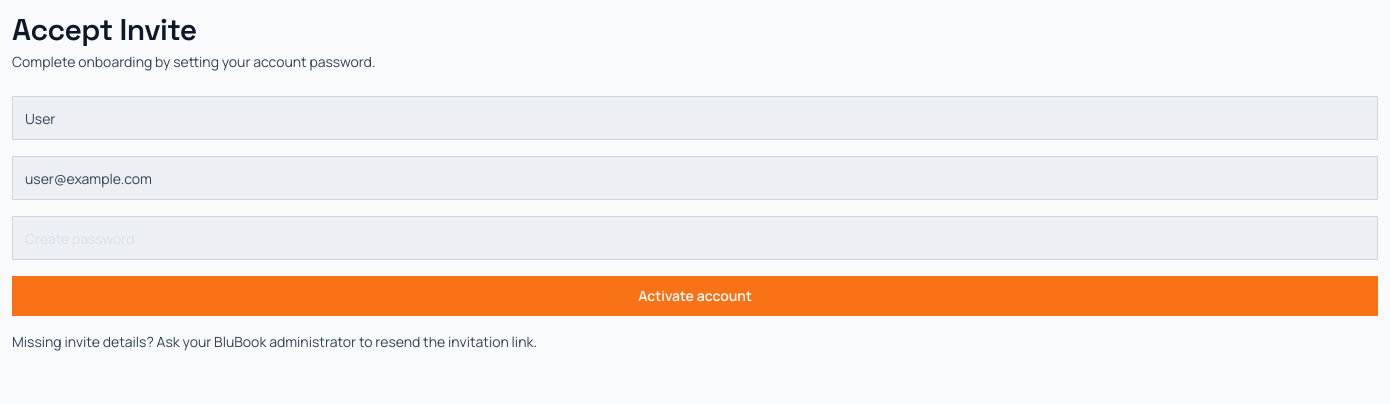
InvitePage › shows login failure message after successful activation
Type "Password123" into the password field with placeholder "Create password".
click(695, 238); type("Password123")  # box [12,216,1378,260]
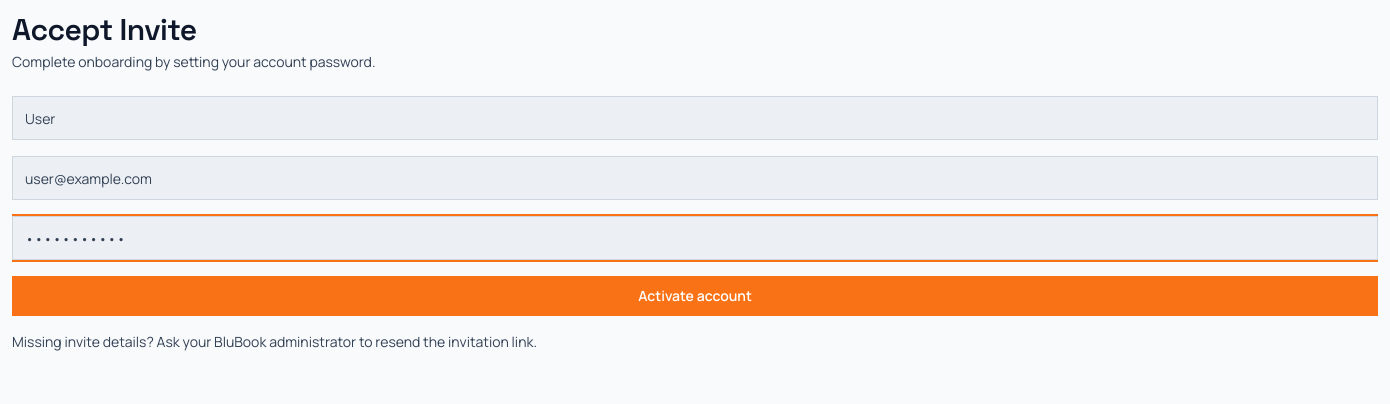
Click the button "Activate account".
click(695, 296)  # box [12,276,1378,316]
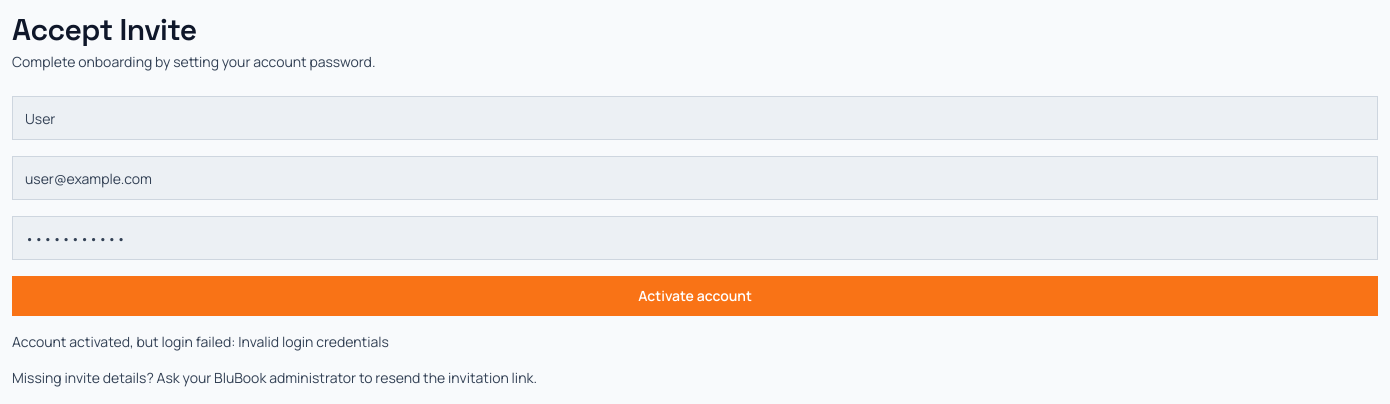
Expected: the text "Account activated, but login failed: Invalid login credentials" is shown, [12,332,389,351]
